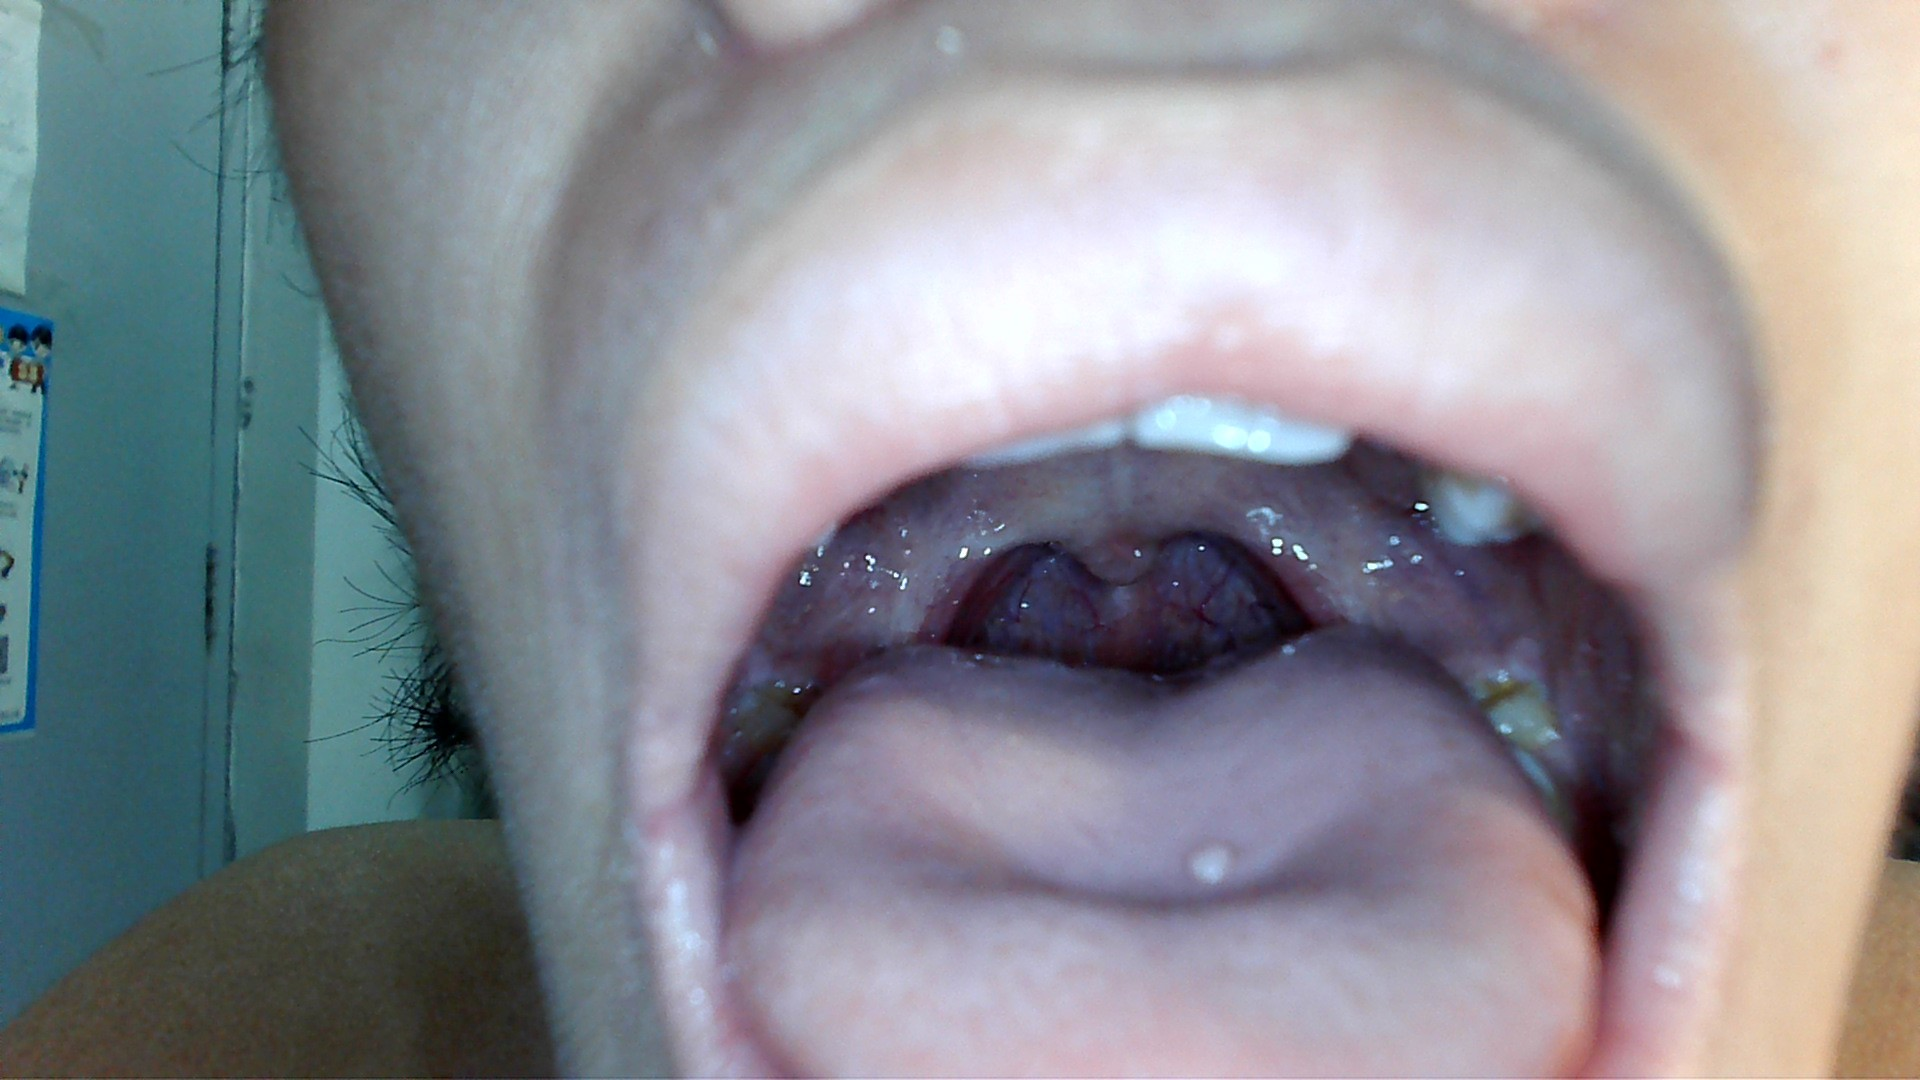throat: (1250, 508, 1346, 620), (898, 527, 978, 644)
